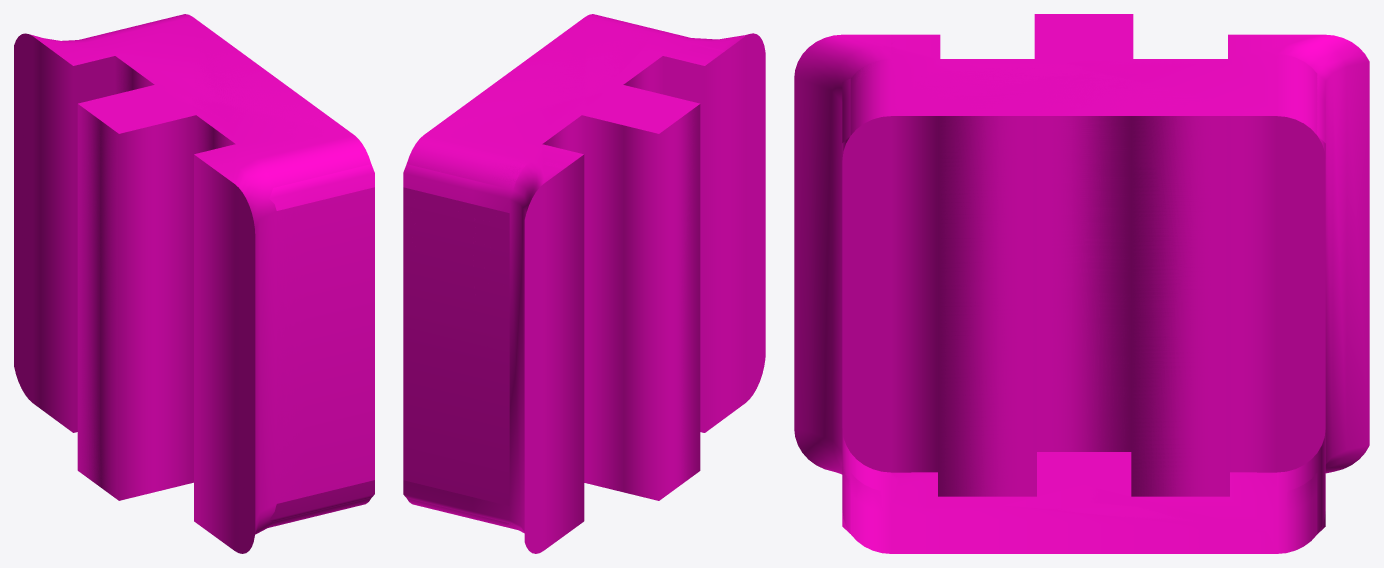
File: thm.fbx
3 views of the same model, side by side, from view 1: azimuth 30°, elevation 25°; view 2: azimuth 150°, elevation 25°; view 3: azimuth 270°, elevation 25° (orthographic). The views are drawn at different scales.
Visible parts, largest first — view 1: ghep2.r, ghep2.lr, ghep2.l; view 2: ghep2.l, ghep2.r, ghep2.lr; view 3: ghep2.r, ghep2.l, ghep2.lr.
Boxes of the visible parts, <box> form: ghep2.r: <box>14,15,374,527</box>; ghep2.lr: <box>116,56,374,553</box>; ghep2.l: <box>32,14,374,553</box>; ghep2.l: <box>403,15,763,530</box>; ghep2.r: <box>403,14,745,553</box>; ghep2.lr: <box>543,14,765,431</box>; ghep2.r: <box>842,14,1369,553</box>; ghep2.l: <box>842,14,1325,553</box>; ghep2.lr: <box>794,34,1268,553</box>.
Bounding box in the file's own units: 25 × 50 × 59.57.
